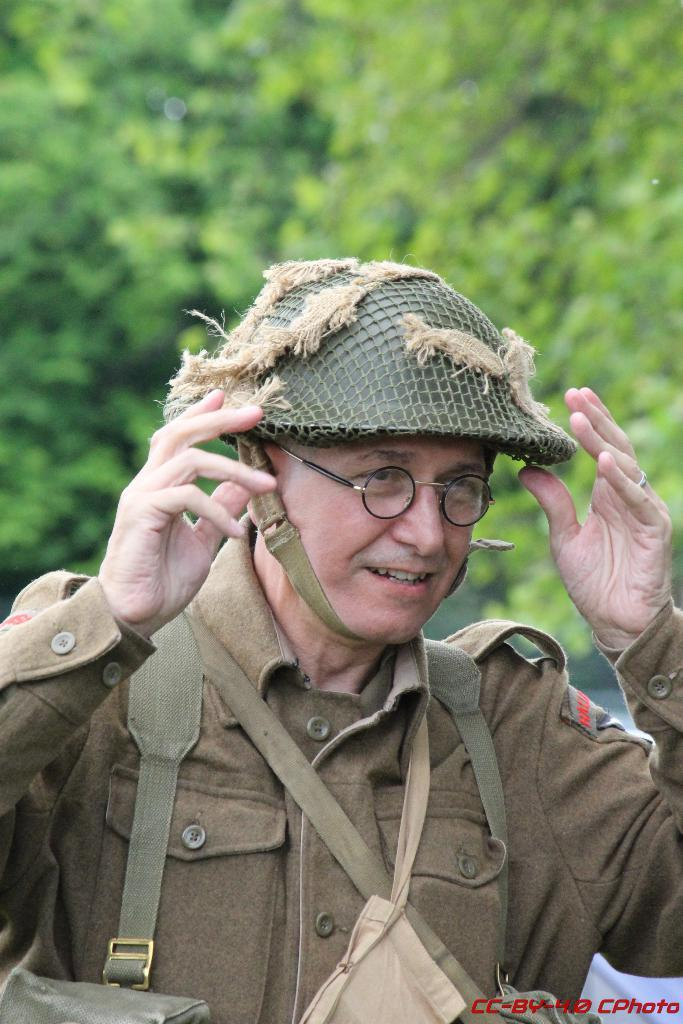Hat: (158, 252, 578, 470)
